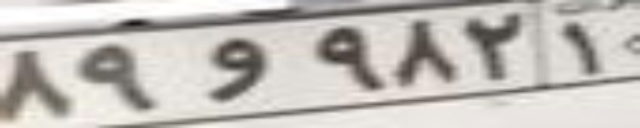0: (621, 33, 639, 55)
1: (561, 20, 597, 74)
2: (464, 11, 522, 81)
8: (0, 50, 71, 119), (389, 20, 454, 85)
9: (79, 44, 150, 109), (314, 26, 379, 91)
vav: (202, 38, 268, 100)
